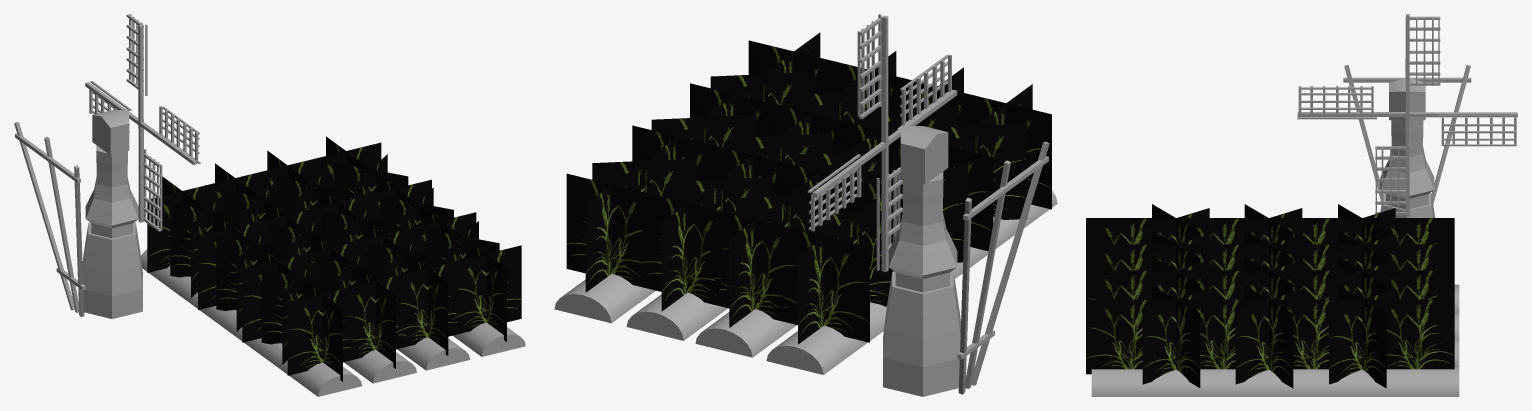
The model's file is Wheat Farm 2.0.fbx.
The picture shows the model from 3 angles, left to right: view 1: azimuth 30°, elevation 25°; view 2: azimuth 150°, elevation 25°; view 3: azimuth 270°, elevation 25°; orthographic projection. The views are drawn at different scales.
Visible parts, largest first — view 1: Windmill_Base, Windmill_Arm4, pPlane1, pPlane47, pCylinder8, pPlane19, pPlane33, pasted__Turning_Mechanism (×3), pPlane9, pPlane13, pPlane7, pPlane11 (+41 smaller); view 2: Windmill_Base, Windmill_Arm4, pPlane35, pPlane7, pPlane21, pPlane49, pCylinder8, pasted__Turning_Mechanism (×3), pPlane10, pPlane1, pPlane34, pPlane48 (+37 smaller); view 3: pCylinder5, Windmill_Arm4, pPlane48, pPlane56, Windmill_Base, pPlane53, pPlane54, pPlane50, pPlane44, pPlane46, pPlane34, pPlane45 (+34 smaller).
Boxes of the visible parts, x1,y1,x2,y2 form: Windmill_Base: (82,145,142,318); Windmill_Arm4: (85,14,200,231); pPlane1: (287,285,357,375); pPlane47: (451,245,521,335); pCylinder8: (141,249,361,396); pPlane19: (340,272,410,362); pPlane33: (393,260,463,348); pasted__Turning_Mechanism (×3): (15,133,84,317); pPlane9: (261,269,335,344); pPlane13: (170,202,244,277); pPlane7: (147,182,217,272); pPlane11: (216,236,290,310); Windmill_Base: (883,171,960,396); Windmill_Arm4: (807,14,957,271); pPlane35: (642,192,733,308); pPlane7: (778,226,869,342); pPlane21: (710,208,801,323); pPlane49: (566,173,657,290); pCylinder8: (766,190,1057,374); pasted__Turning_Mechanism (×3): (963,141,1049,388); pPlane10: (932,123,1027,219); pPlane1: (960,92,1051,209); pPlane34: (661,184,714,311); pPlane48: (585,166,638,292); pCylinder5: (1091,366,1459,396); Windmill_Arm4: (1297,14,1517,217); pPlane48: (1372,299,1454,369); pPlane56: (1086,299,1168,374); Windmill_Base: (1380,120,1434,217); pPlane53: (1178,299,1260,369); pPlane54: (1269,299,1351,369); pPlane50: (1142,289,1209,384); pPlane44: (1329,289,1395,384); pPlane46: (1235,289,1302,384); pPlane34: (1372,270,1454,299); pPlane45: (1244,285,1293,388).
Size of the model in its own units: 22.75 by 17.45 by 24.64.
Materials: 3 (1 with a texture image).
